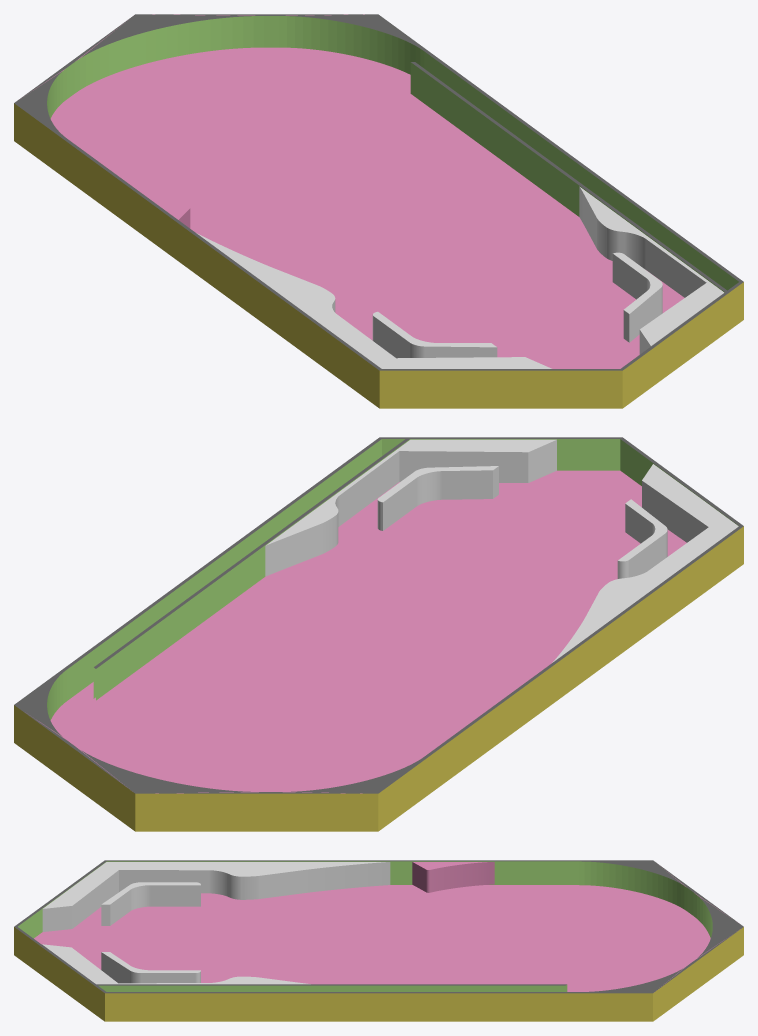
File: table.fbx
3 renders of one model, top to bottom at view 1: azimuth 30°, elevation 25°; view 2: azimuth 150°, elevation 25°; view 3: azimuth 270°, elevation 25°, orthographic. The views are drawn at different scales.
Parts seen in each view (by area): view 1: table, table.003, table.001, table.006, table.004, table.007; view 2: table, table.003, table.001, table.006, table.004; view 3: table, table.001, table.004, table.007, table.003, table.006.
Part boxes in pixels (x1=…): table: x1=14, y1=14, x2=743, y2=408; table.003: x1=579, y1=186, x2=724, y2=354; table.001: x1=196, y1=233, x2=551, y2=368; table.006: x1=612, y1=252, x2=662, y2=342; table.004: x1=372, y1=311, x2=497, y2=358; table.007: x1=128, y1=183, x2=190, y2=228; table: x1=14, y1=437, x2=743, y2=831; table.003: x1=265, y1=439, x2=556, y2=576; table.001: x1=552, y1=464, x2=738, y2=662; table.006: x1=377, y1=466, x2=498, y2=530; table.004: x1=617, y1=499, x2=667, y2=578; table: x1=14, y1=860, x2=743, y2=1021; table.001: x1=42, y1=862, x2=390, y2=931; table.004: x1=101, y1=882, x2=200, y2=925; table.007: x1=412, y1=862, x2=494, y2=892; table.003: x1=42, y1=944, x2=310, y2=984; table.006: x1=101, y1=952, x2=200, y2=983.
Size of the model in its own units: 60.28 by 6 by 140.
